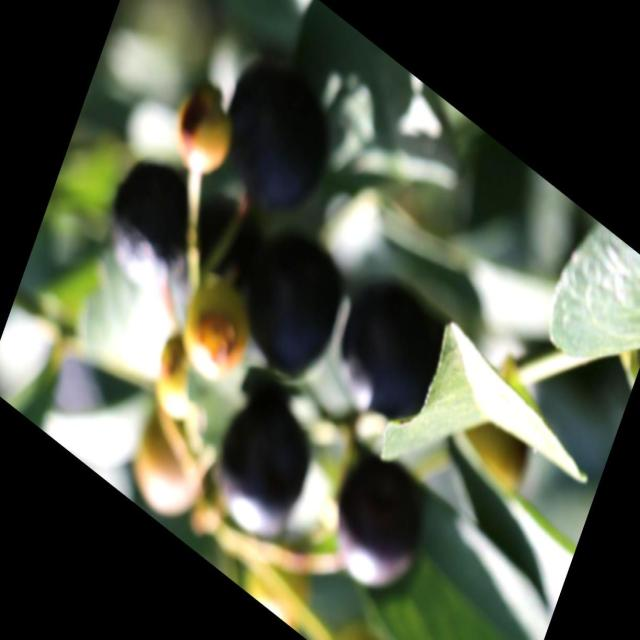blueberry: (205, 38, 344, 248), (323, 255, 459, 462), (196, 367, 322, 562), (313, 430, 440, 621), (230, 208, 355, 400), (93, 137, 207, 314)
